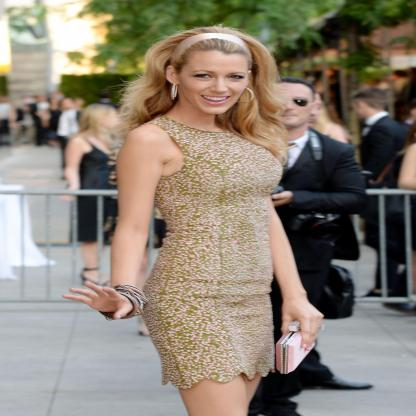face: (181, 52, 246, 116), (273, 83, 313, 125)
